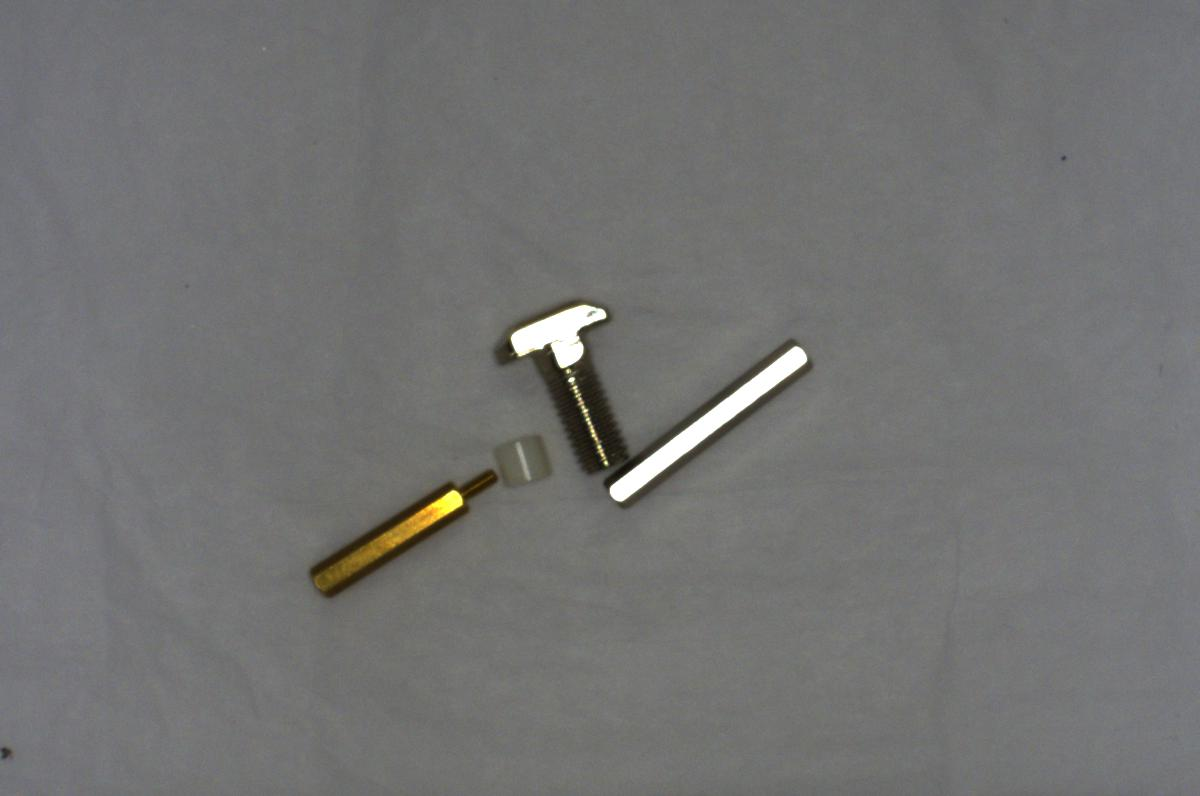Double hexagonal column: (598, 338, 817, 516)
Hexagon pillar: (299, 450, 504, 603)
Plastic cushion pillar: (492, 421, 552, 496)
T-shaped screw: (497, 292, 630, 476)
